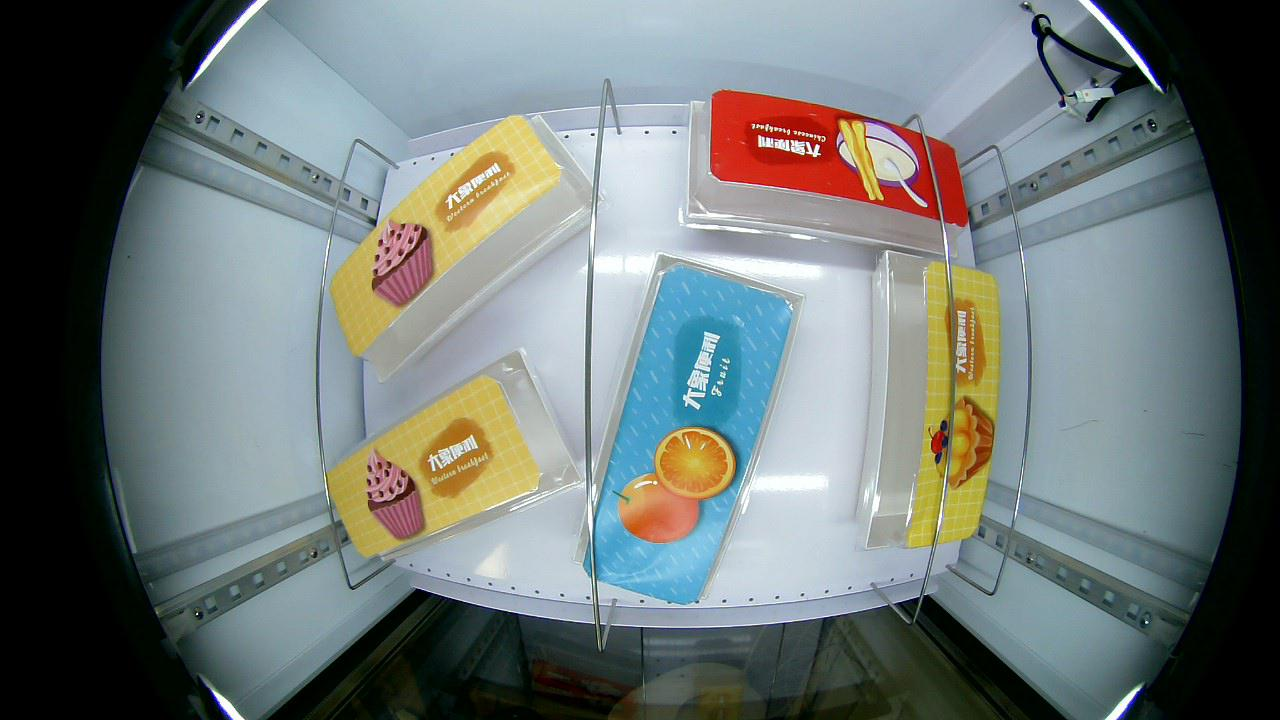goods: (608, 425, 741, 545), (821, 115, 932, 214), (356, 441, 430, 543), (926, 394, 999, 491), (369, 214, 436, 310)
